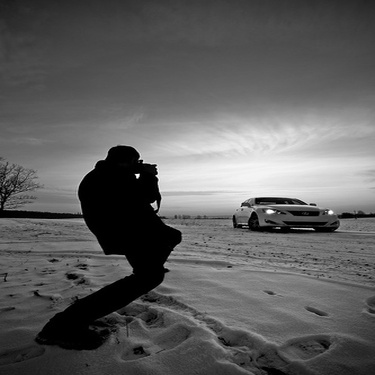car: (217, 192, 344, 238)
